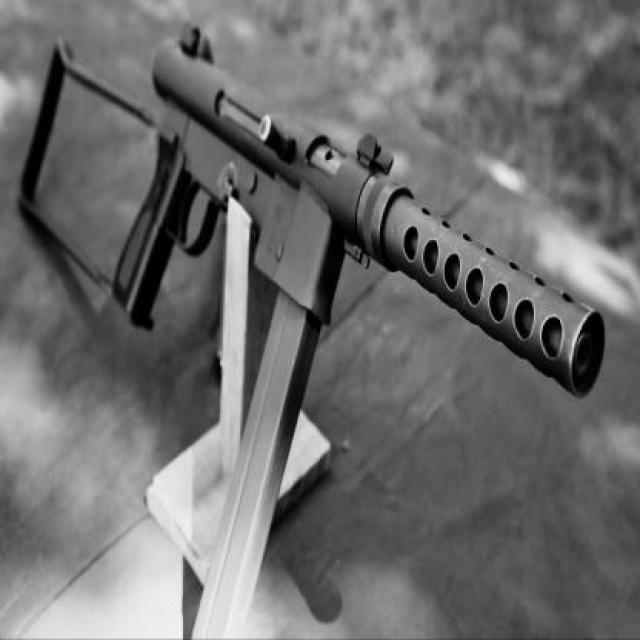weapon: (12, 26, 608, 640)
